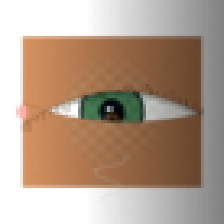foreign_body_visible: (91, 103, 133, 137)
